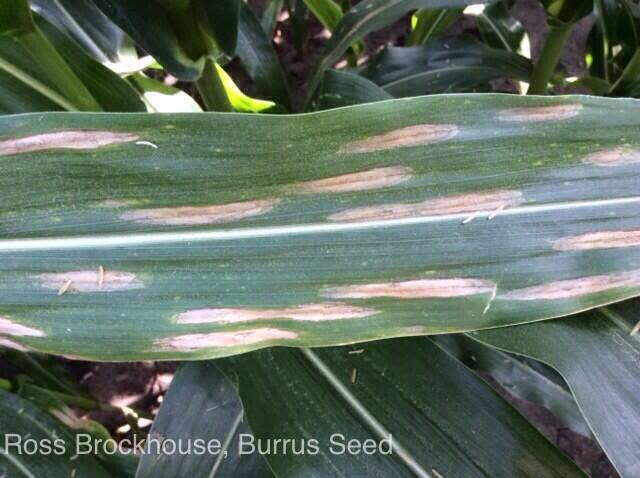Corn leaf blight: (4, 87, 640, 359)
